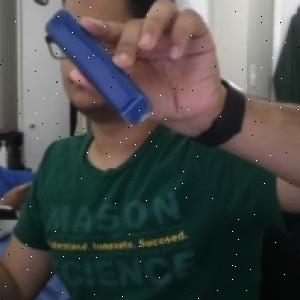Diamond-E-Ciggirate: (43, 7, 155, 129)
